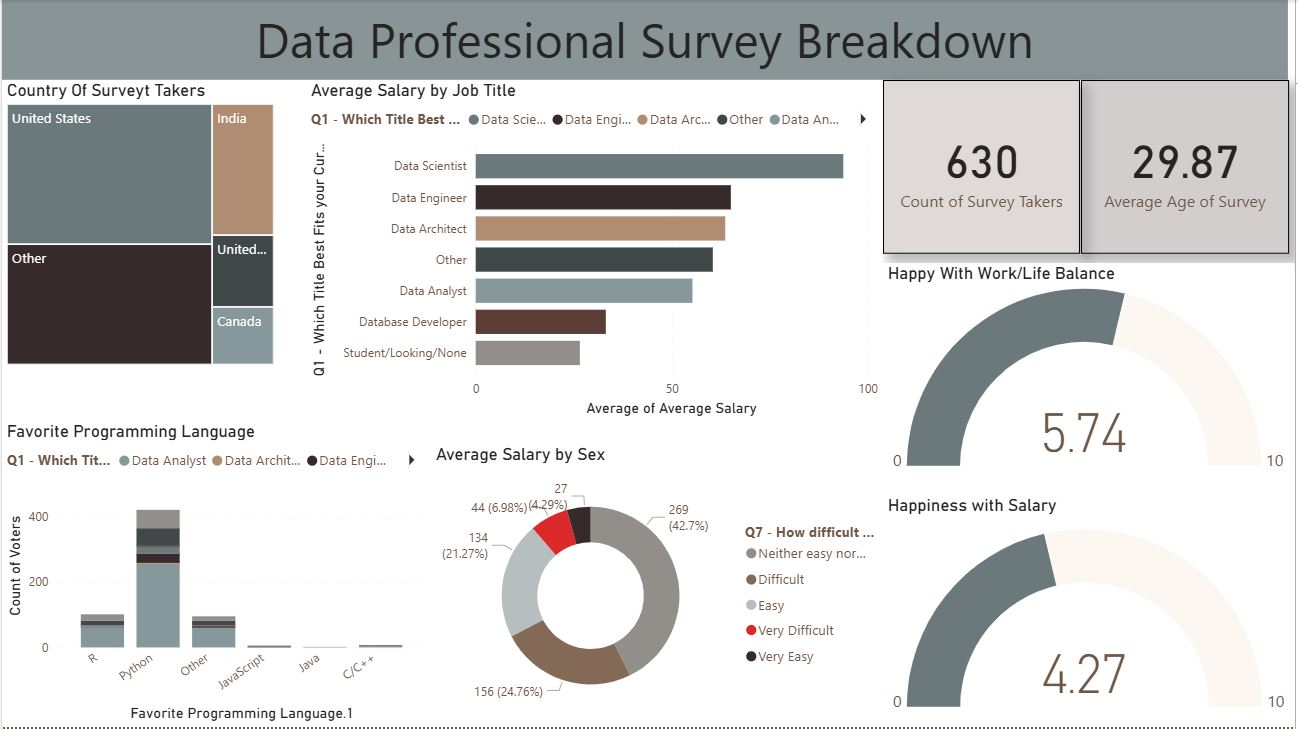

This screenshot's page, from the dashboard's own definition file:
{"tool":"powerbi","page":{"name":"Page 1","canvas":[1280,720],"ordinal":0},"visuals":[{"type":"textbox","box":[0,0,1272.7,79.4],"z":0},{"type":"card","fields":{"Values":["Count(Data Professional Survey.Unique ID)"]},"box":[872.4,79.6,195.3,171.9],"z":1000},{"type":"card","fields":{"Values":["Avg(Data Professional Survey.Q10 - Current Age)"]},"box":[1067.7,79.6,205.9,171.9],"z":2000},{"type":"barChart","title":"Average Salary by Job Title","fields":{"Category":["Data Professional Survey.Q1 - Which Title Best Fits your Current Role?.1"],"Y":["Avg(Data Professional Survey.Average Salary)"],"Series":["Data Professional Survey.Q1 - Which Title Best Fits your Current Role?.1"]},"box":[301.4,79.6,571,337.5],"z":3000},{"type":"columnChart","title":"Favorite Programming Language","fields":{"Category":["Data Professional Survey.Q5 - Favorite Programming Language.1"],"Y":["CountNonNull(Data Professional Survey.Unique ID)"],"Series":["Data Professional Survey.Q1 - Which Title Best Fits your Current Role?.1"]},"box":[0,417.1,424.5,302.5],"z":4000},{"type":"treemap","title":"Country Of Surveyt Takers","fields":{"Group":["Data Professional Survey.Q11 - Which Country do you live in?.1"],"Values":["CountNonNull(Data Professional Survey.Q11 - Which Country do you live in?.1)"]},"box":[0,79.6,273.8,286.6],"z":5000},{"type":"gauge","title":"Happy With Work/Life  Balance","fields":{"Y":["Avg(Data Professional Survey.Q6 - How Happy are you in your Current Position with the following? (Work/Life Balance))"],"MinValue":["Min(Data Professional Survey.Q6 - How Happy are you in your Current Position with the following? (Work/Life Balance))"],"MaxValue":["Max(Data Professional Survey.Q6 - How Happy are you in your Current Position with the following? (Work/Life Balance))1"]},"box":[872.4,260,406.5,212.3],"z":6000},{"type":"gauge","title":"Happiness with Salary","fields":{"Y":["Avg(Data Professional Survey.Q6 - How Happy are you in your Current Position with the following? (Salary))"],"MinValue":["Min(Data Professional Survey.Q6 - How Happy are you in your Current Position with the following? (Salary))"],"MaxValue":["Max(Data Professional Survey.Q6 - How Happy are you in your Current Position with the following? (Salary))"]},"box":[872.4,490.3,407.6,229.3],"z":7000},{"type":"donutChart","title":"Average Salary by Sex","fields":{"Category":["Data Professional Survey.Q7 - How difficult was it for you to break into Data?"],"Series":["Data Professional Survey.Q7 - How difficult was it for you to break into Data?"],"Y":["CountNonNull(Data Professional Survey.Q7 - How difficult was it for you to break into Data?)"]},"box":[424.5,439.4,447.9,281.3],"z":8000}]}

Visuals, with their boxes in screenshot pixels (x1, y1, x2, y2), scaled from the page's 1280x720 canvas onto the 1298x729 screenshot:
textbox: 0 0 1291 80
card - Count(Data Professional Survey.Unique ID): 885 81 1083 255
card - Avg(Data Professional Survey.Q10 - Current Age): 1083 81 1292 255
"Average Salary by Job Title" barChart: 306 81 885 422
"Favorite Programming Language" columnChart: 0 422 430 728
"Country Of Surveyt Takers" treemap: 0 81 278 371
"Happy With Work/Life  Balance" gauge: 885 263 1297 478
"Happiness with Salary" gauge: 885 496 1297 728
"Average Salary by Sex" donutChart: 430 445 885 728
